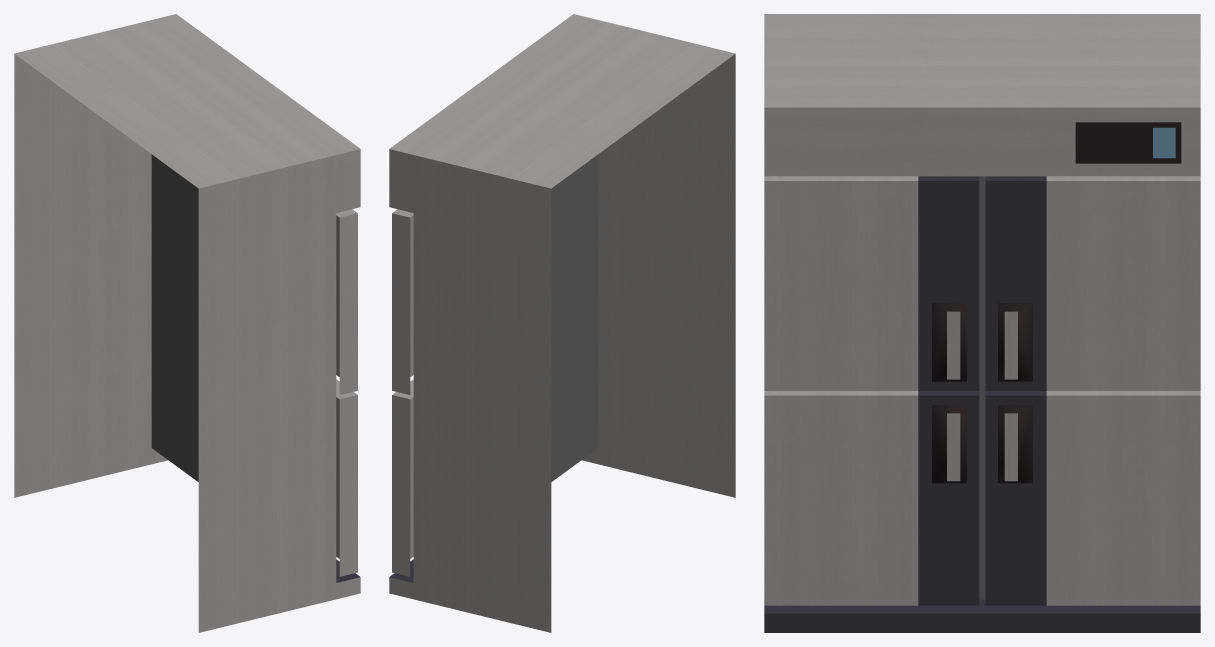
Rendered from interior_B_006.fbx.
3 renders of one model, left to right at view 1: azimuth 30°, elevation 25°; view 2: azimuth 150°, elevation 25°; view 3: azimuth 270°, elevation 25°, orthographic. The views are drawn at different scales.
Parts seen in each view (by area): view 1: interior_B_006; view 2: interior_B_006; view 3: interior_B_006.
Boxes of the visible parts, left/top/right/bottom form: interior_B_006: left=14, top=14, right=360, bottom=632; interior_B_006: left=389, top=14, right=735, bottom=632; interior_B_006: left=764, top=14, right=1200, bottom=632.
Bounding box in the file's own units: 84.15 × 217 × 163.
